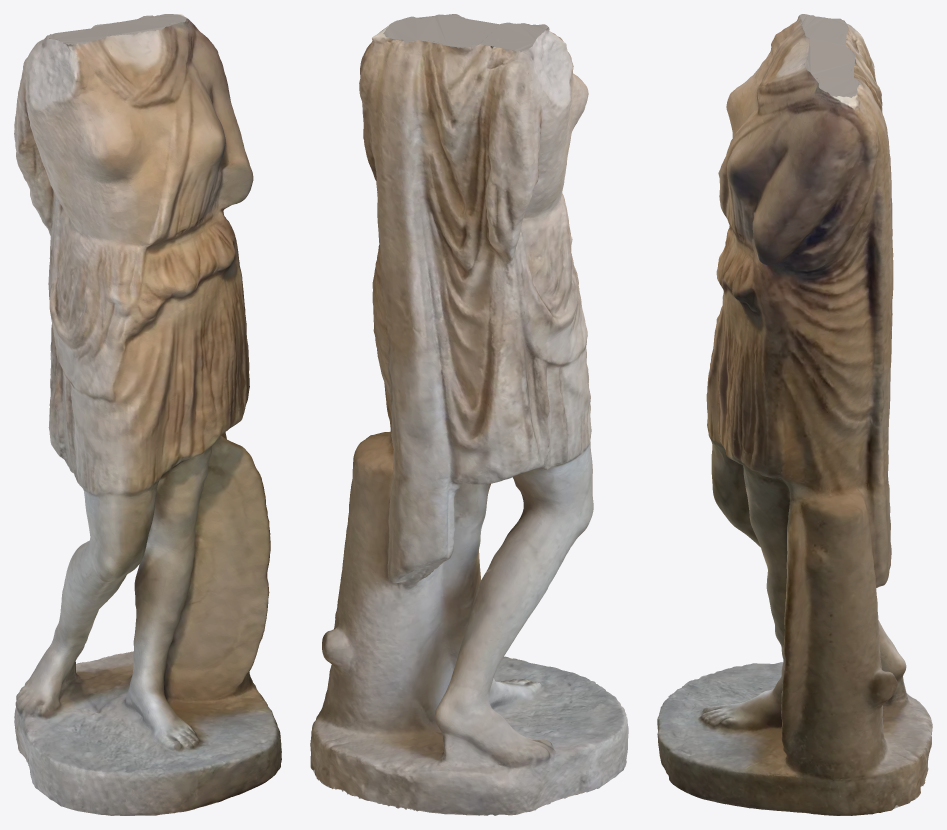
File: preview.glb
The picture shows the model from 3 angles, left to right: view 1: azimuth 30°, elevation 25°; view 2: azimuth 150°, elevation 25°; view 3: azimuth 270°, elevation 25°; orthographic projection. The views are drawn at different scales.
Visible parts, largest first — view 1: Object_2; view 2: Object_2; view 3: Object_2.
Part boxes in pixels (box(x1,y1,x2,y2)): Object_2: box(14, 14, 281, 815); Object_2: box(310, 14, 628, 815); Object_2: box(657, 14, 932, 815).
Bounding box in the file's own units: 4.21 × 12.16 × 4.25.
Materials: 1 (1 with a texture image).
